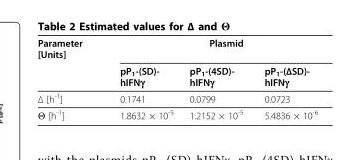table: (36, 36, 317, 120)
table column: (100, 36, 180, 120), (180, 36, 253, 120), (36, 36, 100, 120), (253, 36, 317, 120)
table column header: (36, 36, 317, 89)
table row: (36, 62, 317, 89), (36, 36, 317, 62), (36, 89, 317, 106), (36, 106, 317, 120)
table spanning cell: (100, 36, 317, 62), (36, 36, 100, 89)
